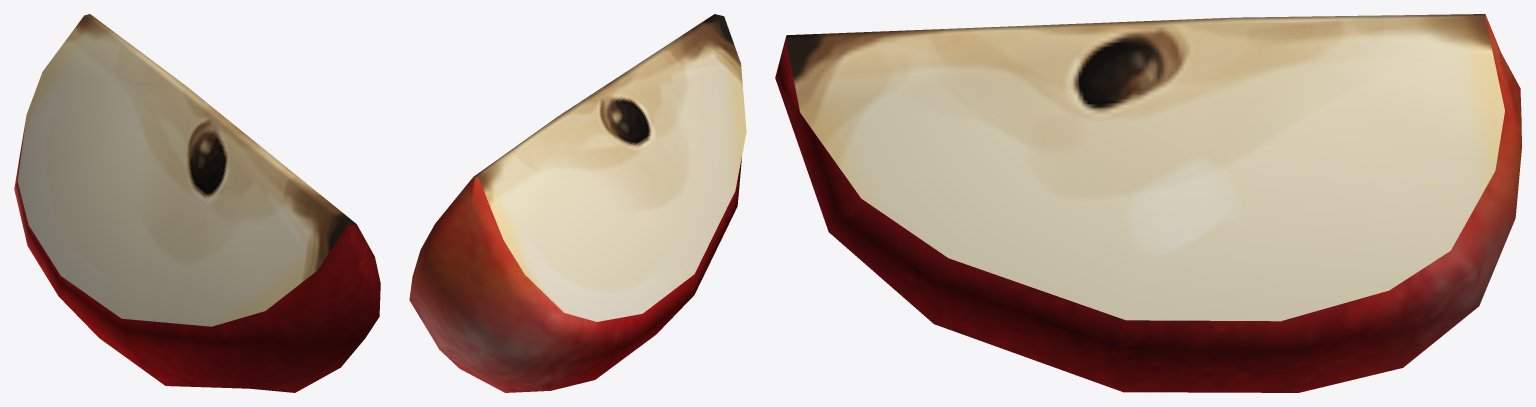
The model's file is 002-Apple_Half_Slice.FBX.
3 renders of one model, left to right at view 1: azimuth 30°, elevation 25°; view 2: azimuth 150°, elevation 25°; view 3: azimuth 270°, elevation 25°, orthographic. The views are drawn at different scales.
Visible parts, largest first — view 1: 002-Apple_Half_Slice; view 2: 002-Apple_Half_Slice; view 3: 002-Apple_Half_Slice.
Boxes of the visible parts, x1,y1,x2,y2 form: 002-Apple_Half_Slice: (14,14,380,392); 002-Apple_Half_Slice: (409,14,746,392); 002-Apple_Half_Slice: (775,14,1521,392).
Bounding box in the file's own units: 4.23 × 5.31 × 10.
